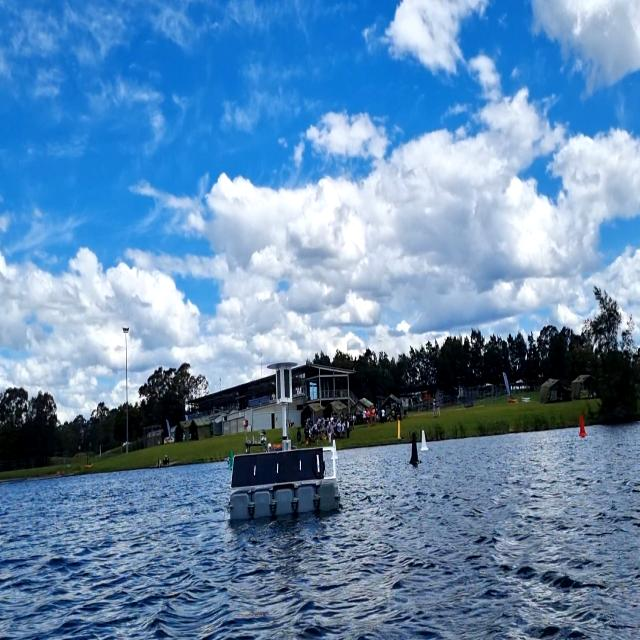led: (282, 367, 291, 401), (276, 369, 282, 400)
